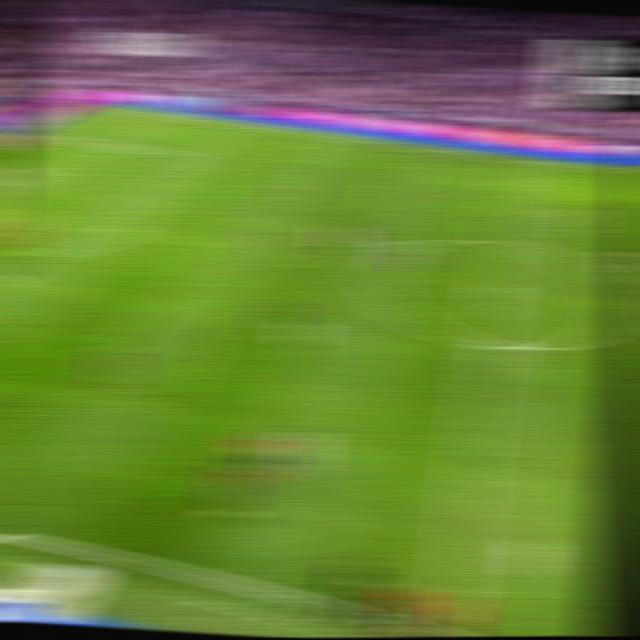bigarea_top_inner: (162, 147, 194, 161)
bottom_arc_area_intersection: (25, 245, 59, 262)
corner: (88, 101, 117, 109)
halfcircle_bottom: (468, 330, 504, 355)
halfcircle_top: (480, 230, 518, 254)
midline_top_intersection: (494, 151, 526, 165)
smallarea_top_inner: (14, 166, 44, 175)
top_arc_area_intersection: (110, 185, 141, 200)
